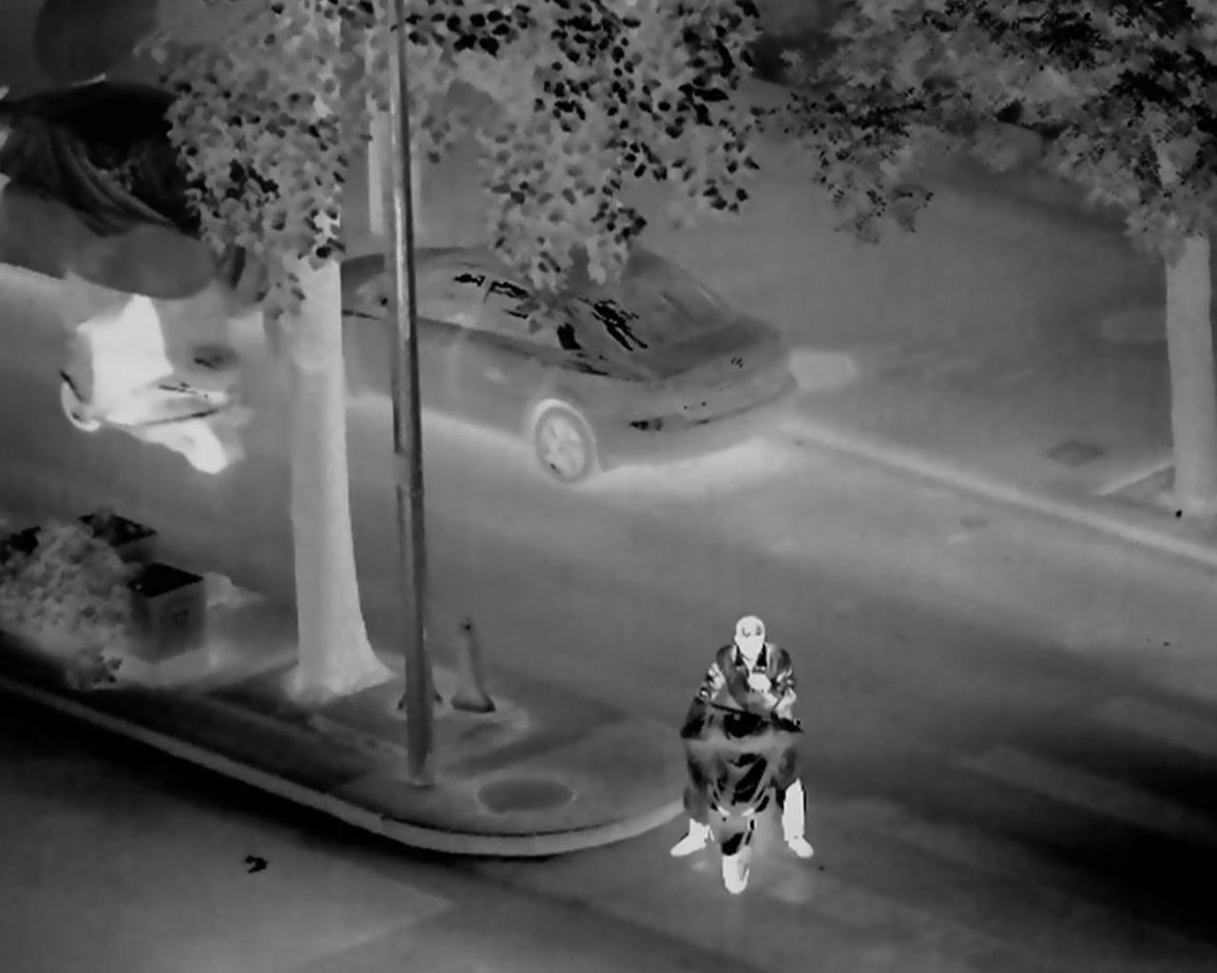person: (692, 608, 821, 867)
